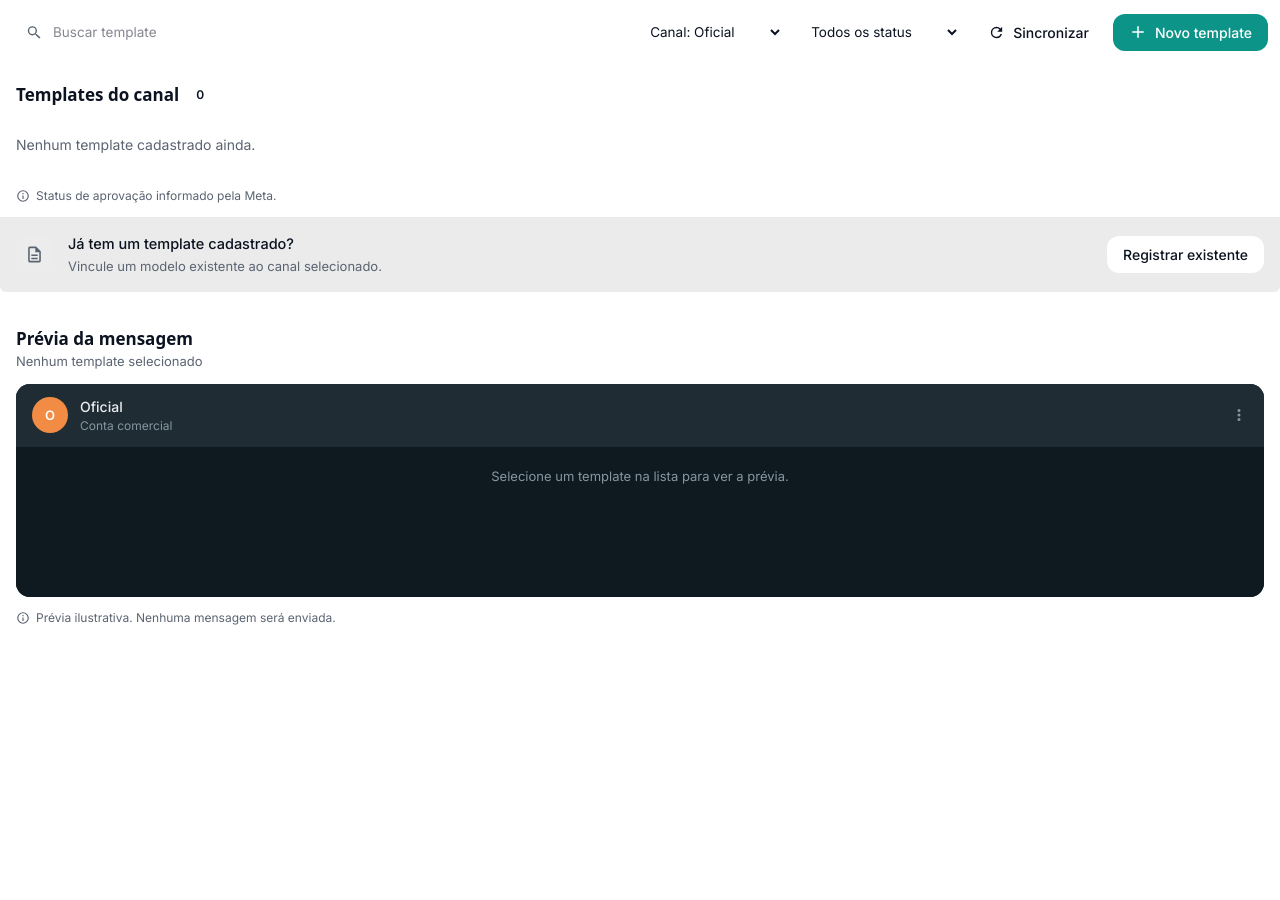
Test: TemplatesAdminTab › canceling the register-existing-template form hides it without registering anything
Click the button with aria-label "registrar template existente".
click(1186, 255)  # box [1107,236,1264,273]
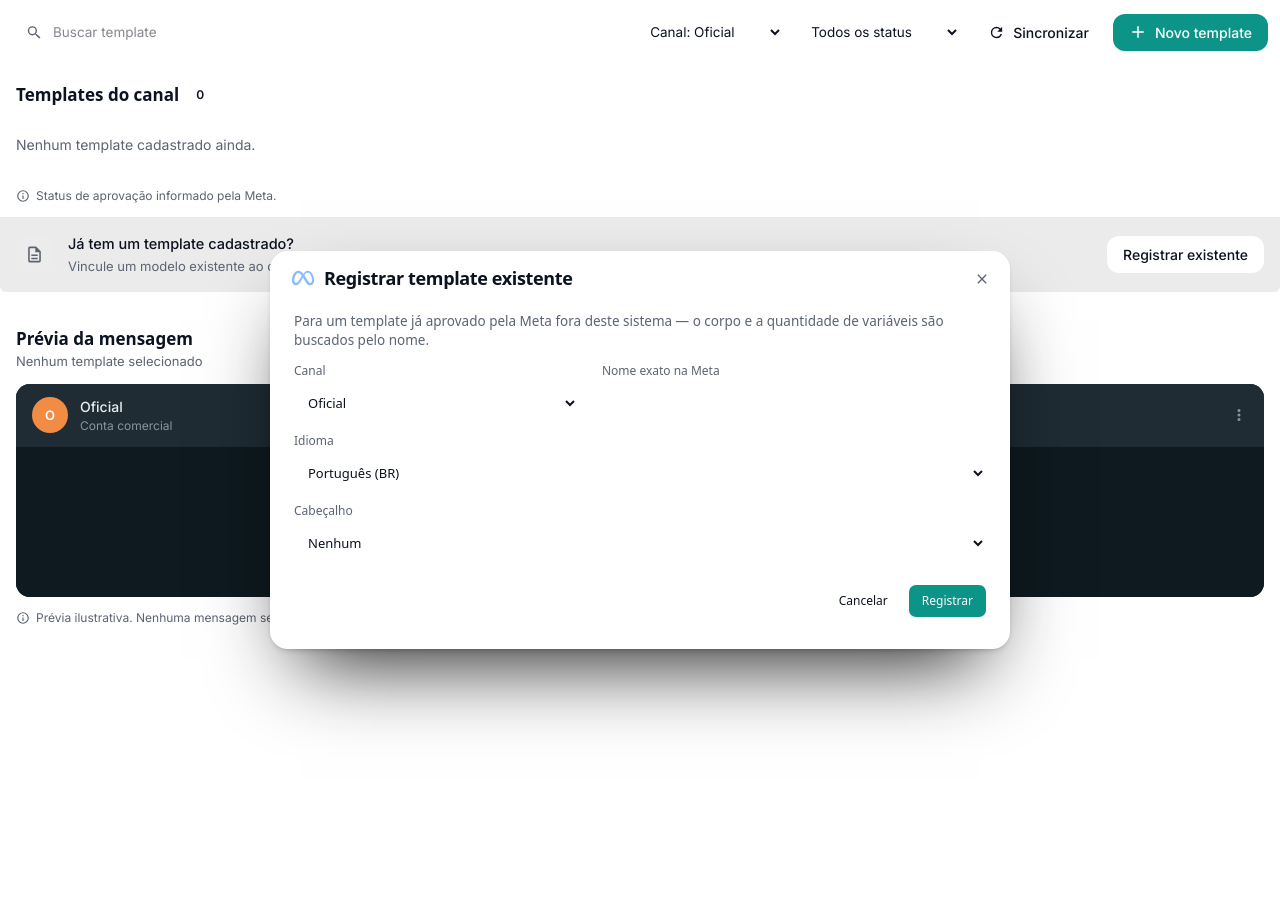
Now the form named "registrar template existente" is shown, box [294,312,986,629]
Click the button "Cancelar".
click(863, 601)  # box [826,585,901,617]
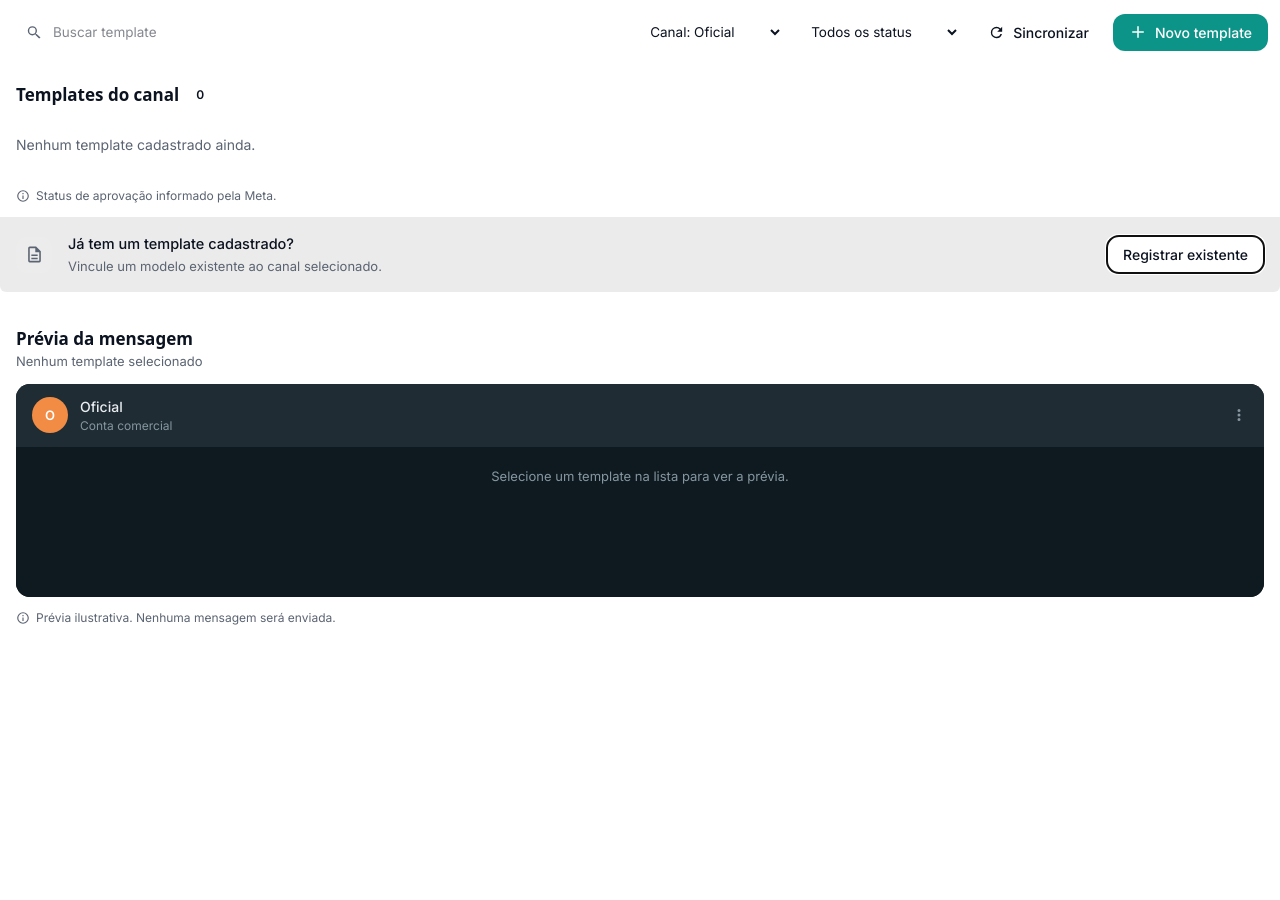
Now the heading "Registrar template existente" is gone
